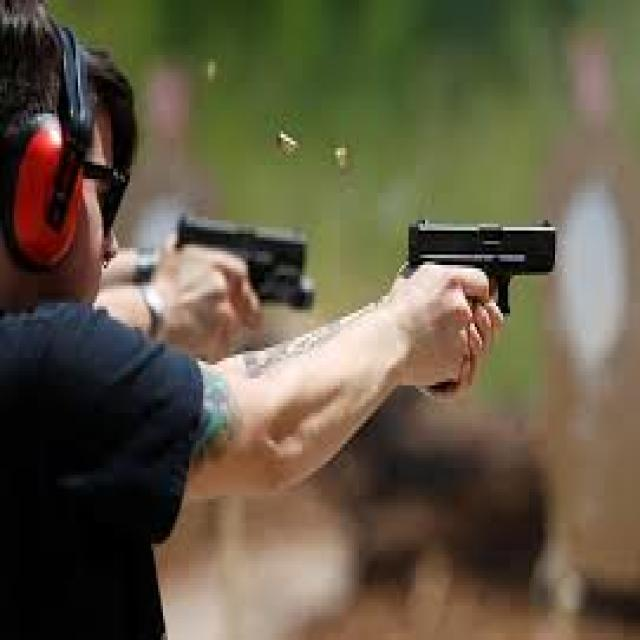gun: (392, 179, 580, 397), (153, 192, 338, 343)
